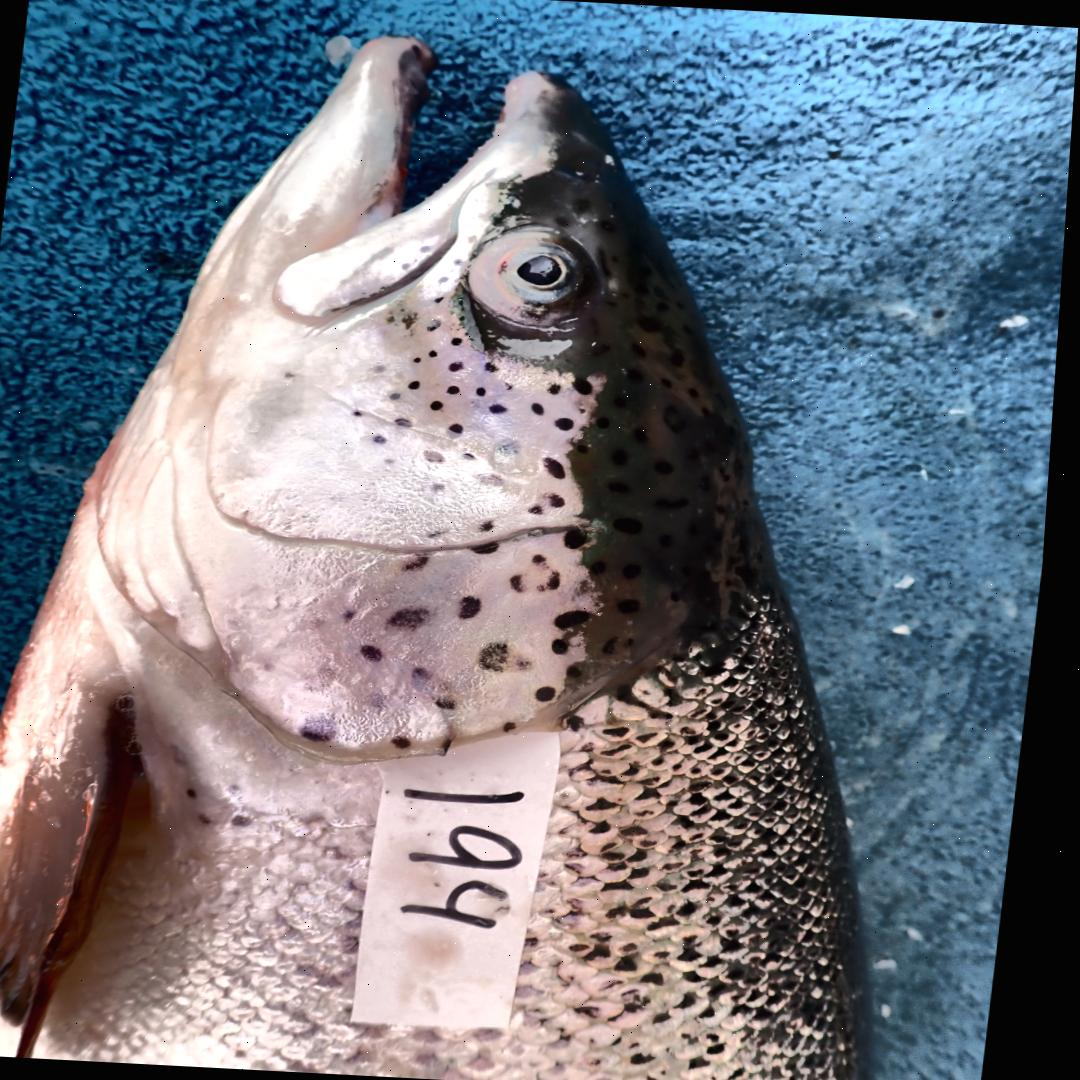spot: (487, 641, 519, 672), (309, 716, 347, 742), (395, 607, 436, 631), (562, 609, 598, 628), (466, 595, 490, 619), (548, 457, 572, 480), (409, 554, 436, 572), (571, 528, 594, 549), (576, 377, 599, 396), (502, 438, 526, 456), (546, 572, 568, 591), (420, 668, 439, 690), (374, 691, 394, 710), (369, 645, 391, 661), (543, 687, 564, 702), (481, 474, 507, 486), (451, 423, 469, 440), (479, 542, 505, 553), (445, 696, 466, 709), (538, 554, 557, 568), (400, 736, 419, 750), (560, 638, 577, 653), (430, 449, 448, 463), (575, 664, 592, 678), (560, 418, 578, 431), (553, 494, 570, 507), (428, 319, 445, 332), (518, 574, 530, 591), (550, 383, 566, 395), (494, 403, 511, 414), (351, 610, 365, 622), (434, 400, 449, 411), (484, 520, 499, 531), (487, 363, 503, 373), (433, 529, 453, 537), (453, 361, 467, 372), (512, 721, 526, 732), (399, 418, 416, 427), (534, 505, 549, 515), (450, 386, 465, 395), (536, 403, 548, 414), (467, 453, 482, 461), (455, 337, 467, 346), (414, 380, 425, 389), (439, 484, 451, 492), (393, 392, 404, 400), (379, 436, 391, 443), (509, 381, 518, 390), (481, 388, 490, 396), (431, 351, 440, 357), (416, 357, 425, 363), (356, 411, 366, 416)
